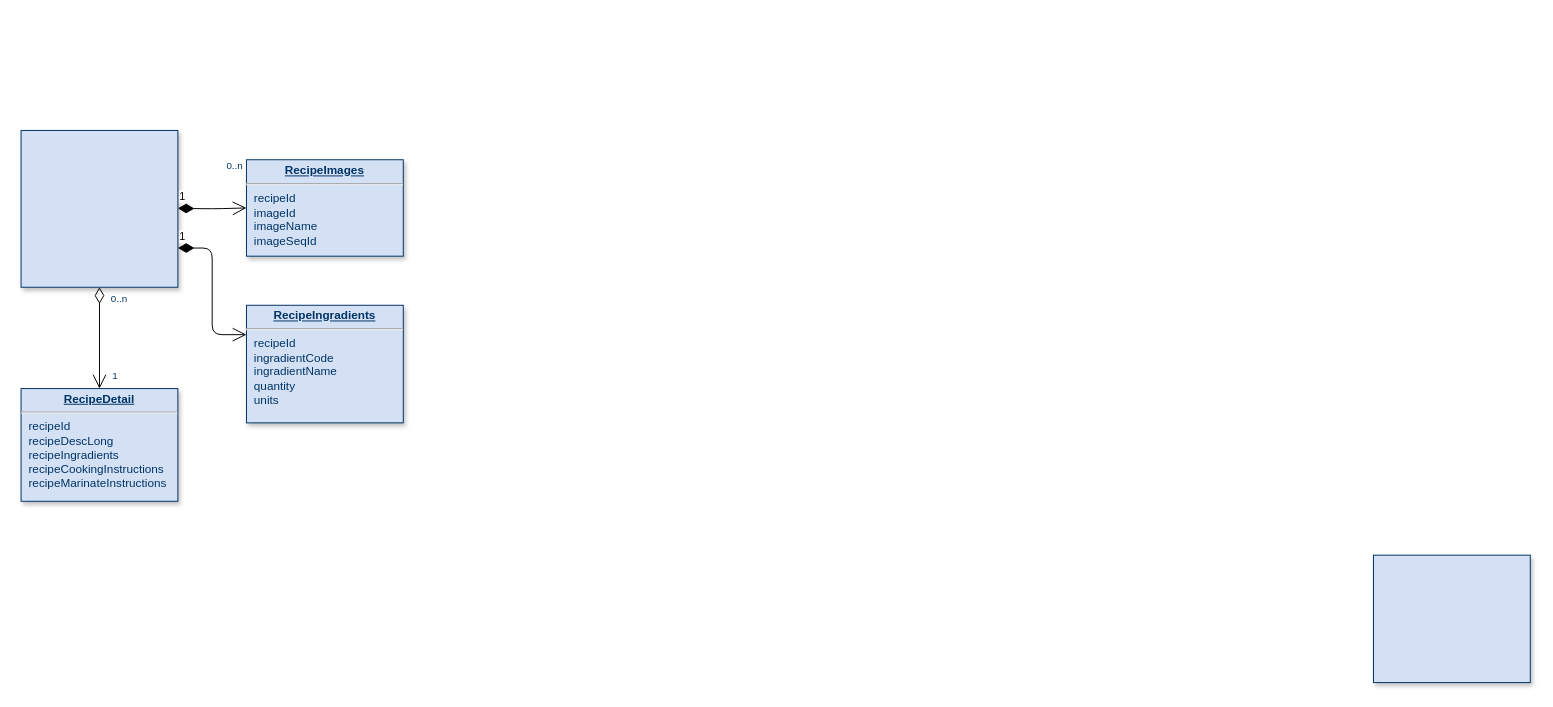
Some shapes in this 1553 by 707 pixel diagram are drawn without their labels. Here are the shapes that lost their labels. From the top down, the centre of each, then its label:
At (100,210): "Recipe recipeId recipeName recipeDescShort recipeImage keyWords relatedRecipes".
At (1452,619): "TimeCategory IdTimeCategory Name Description CreatedAt UpdatedAt Enabled".
